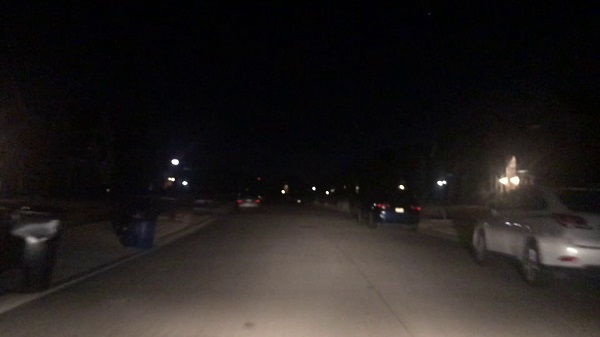car: (468, 181, 600, 286), (356, 190, 424, 231), (234, 185, 264, 209)
